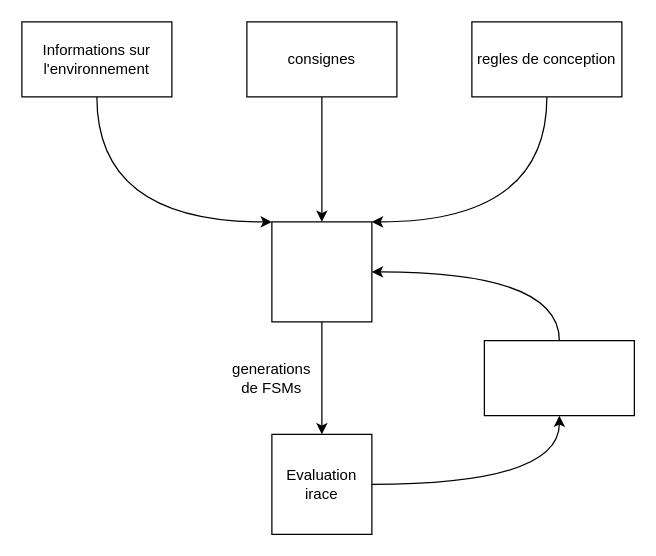
Image size: 656x556. Some labels were removed from this diagram. Each missing label, with the centre of its shape:
Classement et scores des FSMs et les erreurs: [558,377]
Prompt: [321,271]
